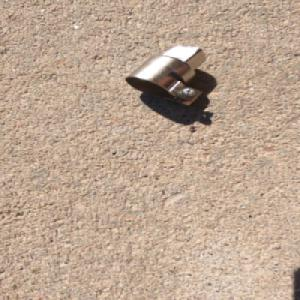MetalPart: (124, 44, 208, 106)
